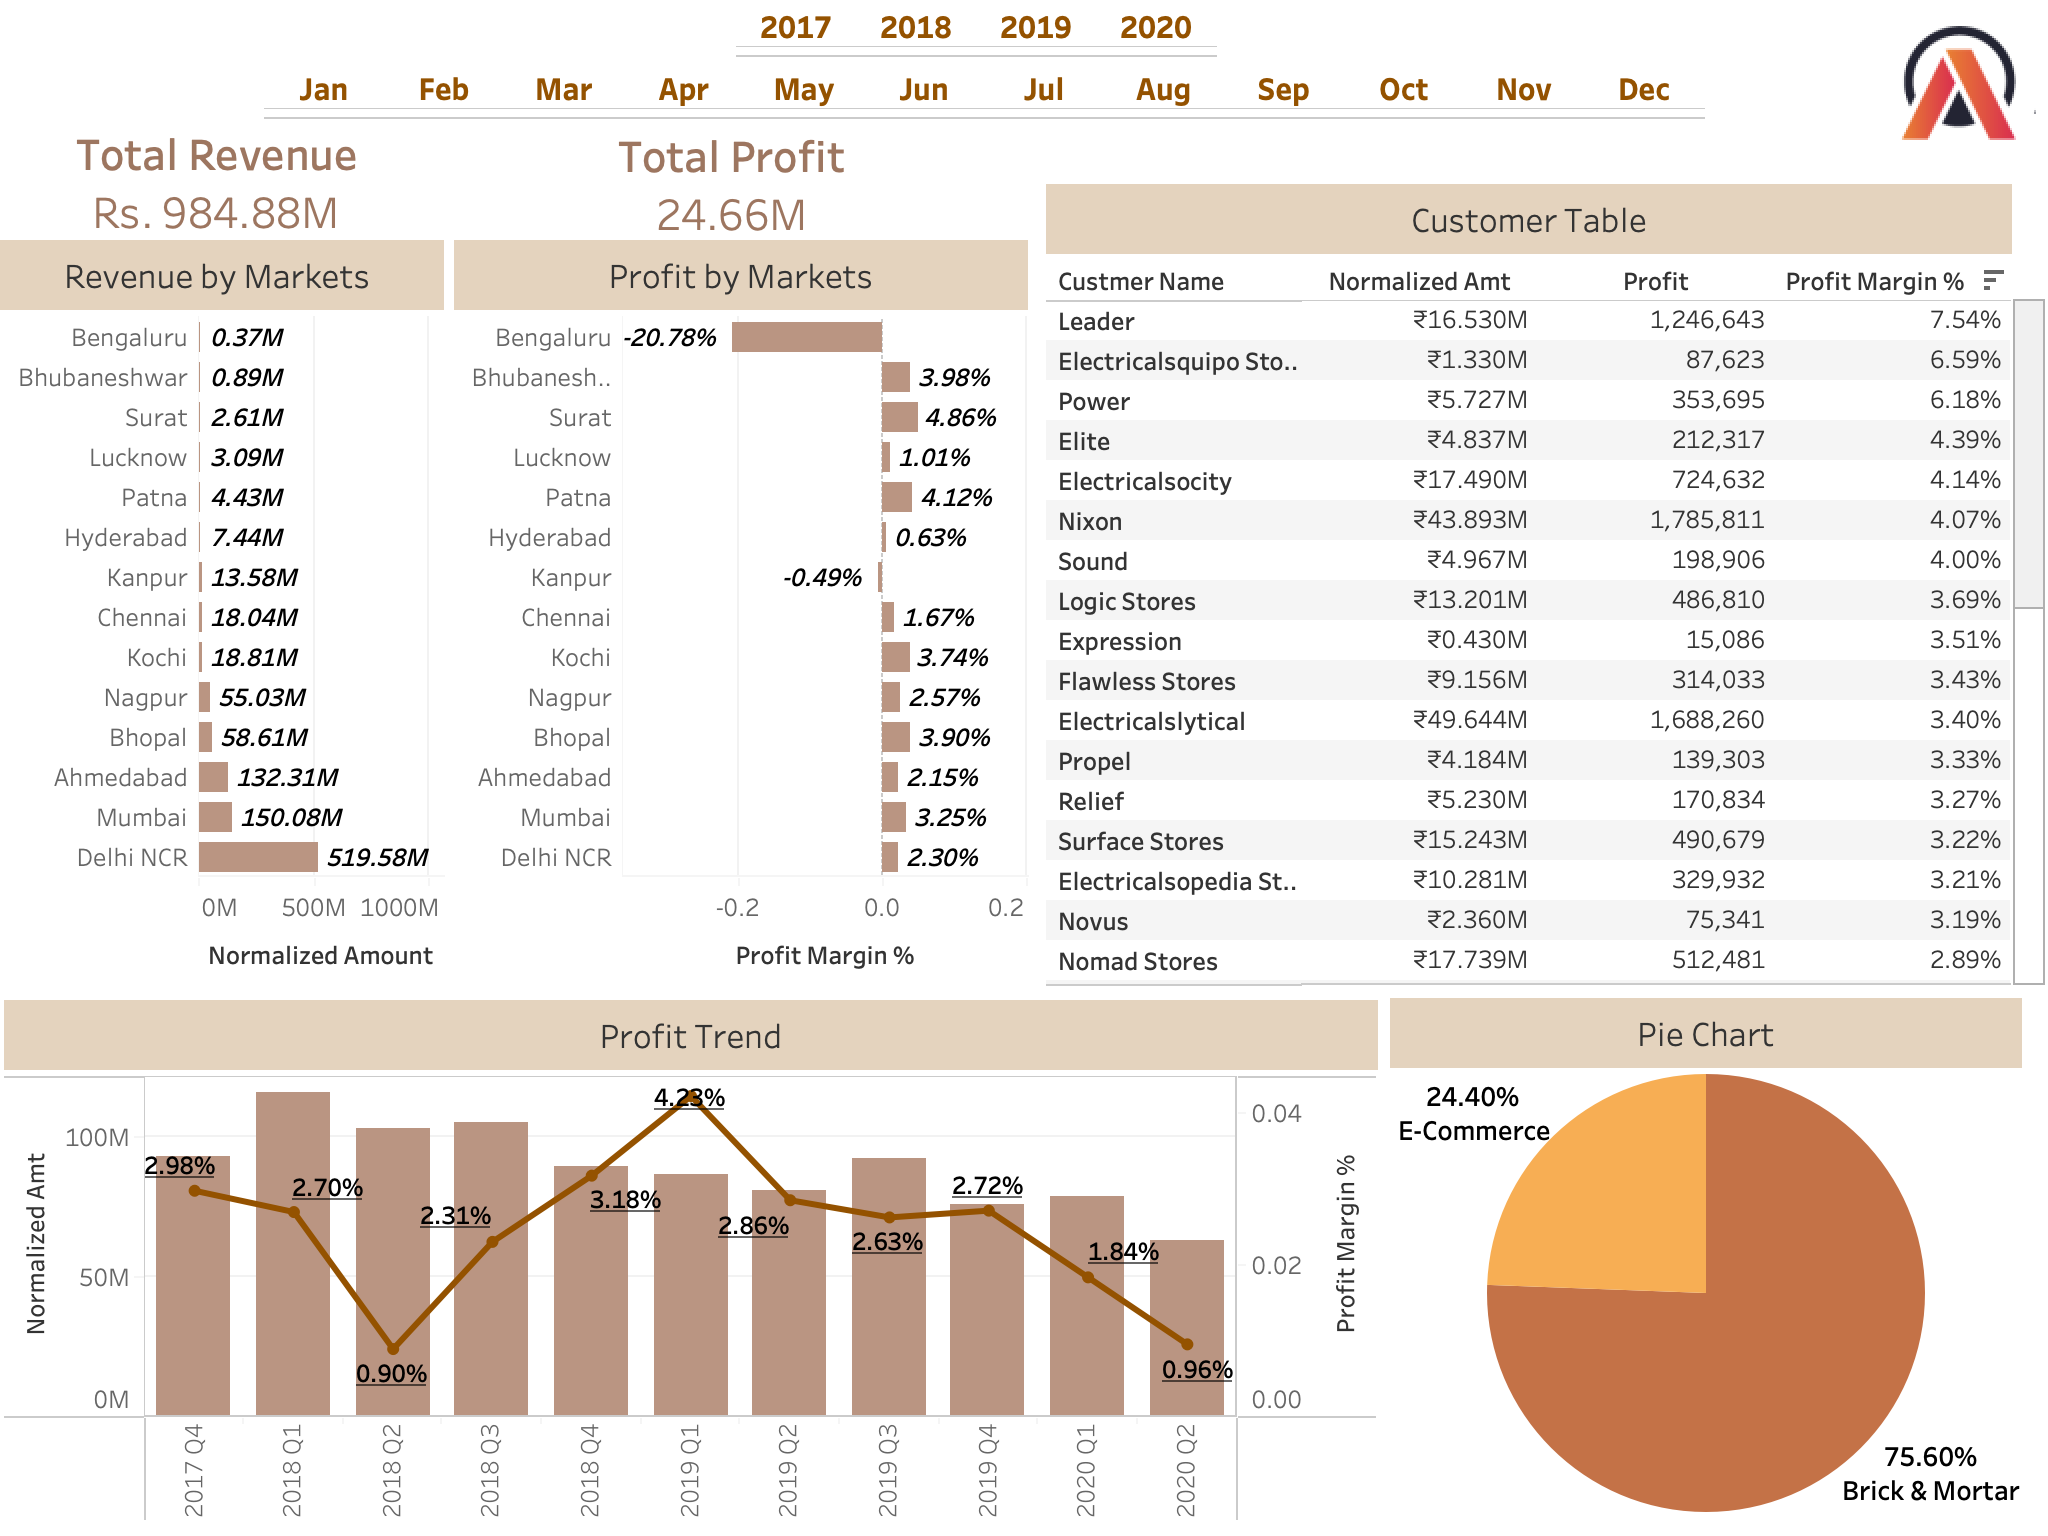

What the dashboard file says about the page in this screenshot:
{"tool":"tableau","page":{"name":"Dashboard 2 - Profit Analysis","canvas":[1024,768],"ordinal":1},"visuals":[{"type":"image","box":[935,0,90,83]},{"type":"worksheet","title":"Year","mark":"Automatic","cols":["cy_date"],"box":[368,3,296,29]},{"type":"worksheet","title":"Month","mark":"Automatic","cols":["cy_date"],"box":[132,34,748,28]},{"type":"worksheet","title":"Revenue","mark":"Automatic","box":[29,63,176,58]},{"type":"worksheet","title":"Profit","mark":"Automatic","box":[296,64,158,59]},{"type":"worksheet","title":"Customer Table","mark":"Automatic","rows":["custmer_name"],"box":[523,92,501,401]},{"type":"worksheet","title":"Profit by Markets","mark":"Automatic","rows":["markets_name"],"cols":["Calculation_4434849404278829060"],"box":[227,120,287,388]},{"type":"worksheet","title":"Pie Chart","mark":"Pie","box":[695,499,316,257]},{"type":"worksheet","title":"Profit Trend","mark":"Bar","rows":["Calculation_4434849403206725632","Calculation_4434849404278829060"],"cols":["cy_date"],"box":[2,500,687,261]}]}

Visuals, with their boxes in screenshot pixels (x1, y1, x2, y2), scaled from the page's 1024x768 canvas onto the 2048x1536 screenshot:
image: <region>1870, 0, 2047, 166</region>
"Year" worksheet: <region>736, 6, 1328, 64</region>
"Month" worksheet: <region>264, 68, 1760, 124</region>
"Revenue" worksheet: <region>58, 126, 410, 242</region>
"Profit" worksheet: <region>592, 128, 908, 246</region>
"Customer Table" worksheet: <region>1046, 184, 2047, 986</region>
"Profit by Markets" worksheet: <region>454, 240, 1028, 1016</region>
"Pie Chart" worksheet (Pie marks): <region>1390, 998, 2022, 1512</region>
"Profit Trend" worksheet (Bar marks): <region>4, 1000, 1378, 1522</region>
